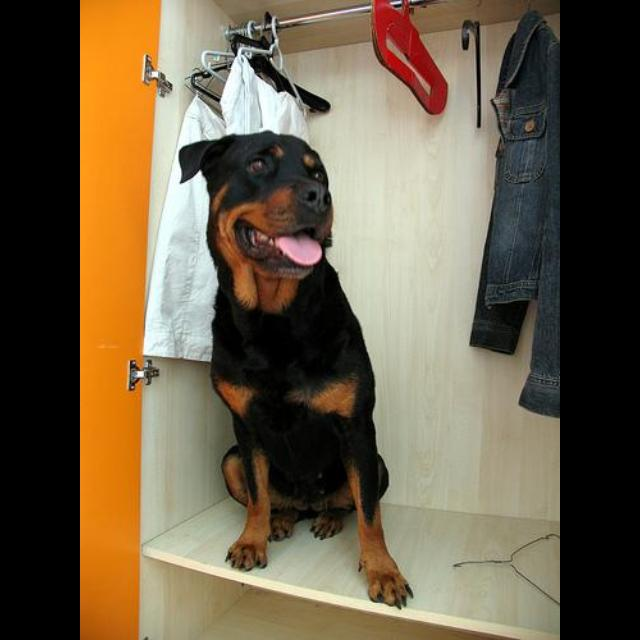rottweiler: (179, 130, 415, 610)
